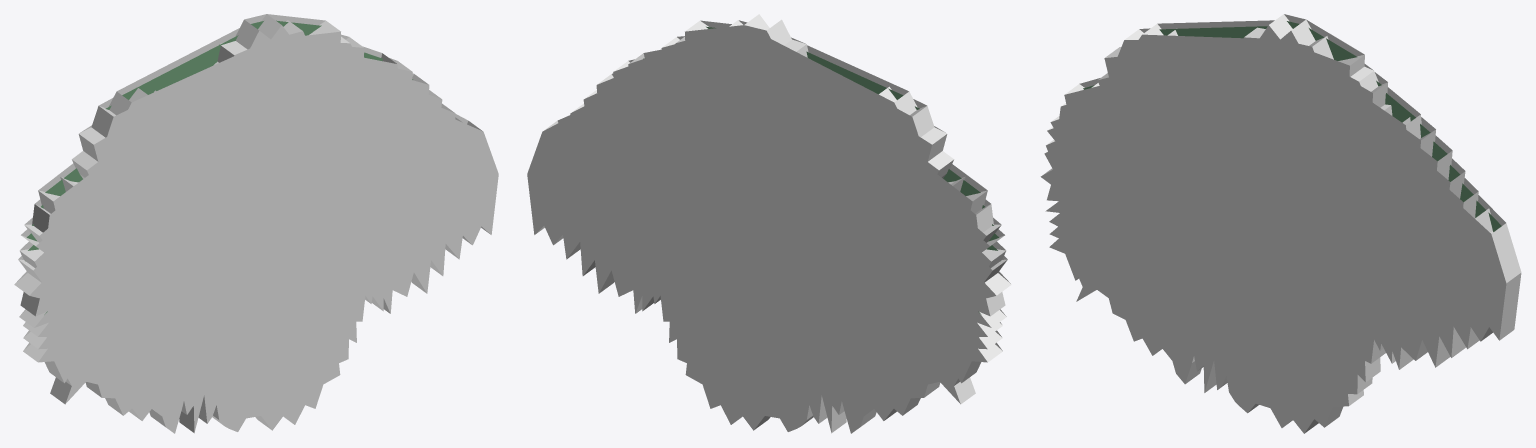
Rendered from resource__surrounding__bushes__small.fbx.
The picture shows the model from 3 angles, left to right: view 1: azimuth 30°, elevation 25°; view 2: azimuth 150°, elevation 25°; view 3: azimuth 330°, elevation 25°; orthographic projection.
Parts seen in each view (by area): view 1: Map_Surrounding_Bushes_Small; view 2: Map_Surrounding_Bushes_Small; view 3: Map_Surrounding_Bushes_Small.
Part boxes in pixels (x1,y1,x2,y2): Map_Surrounding_Bushes_Small: (14,14,498,433); Map_Surrounding_Bushes_Small: (527,14,1011,433); Map_Surrounding_Bushes_Small: (1040,14,1521,433).
Bounding box in the file's own units: 716 × 588 × 40.
